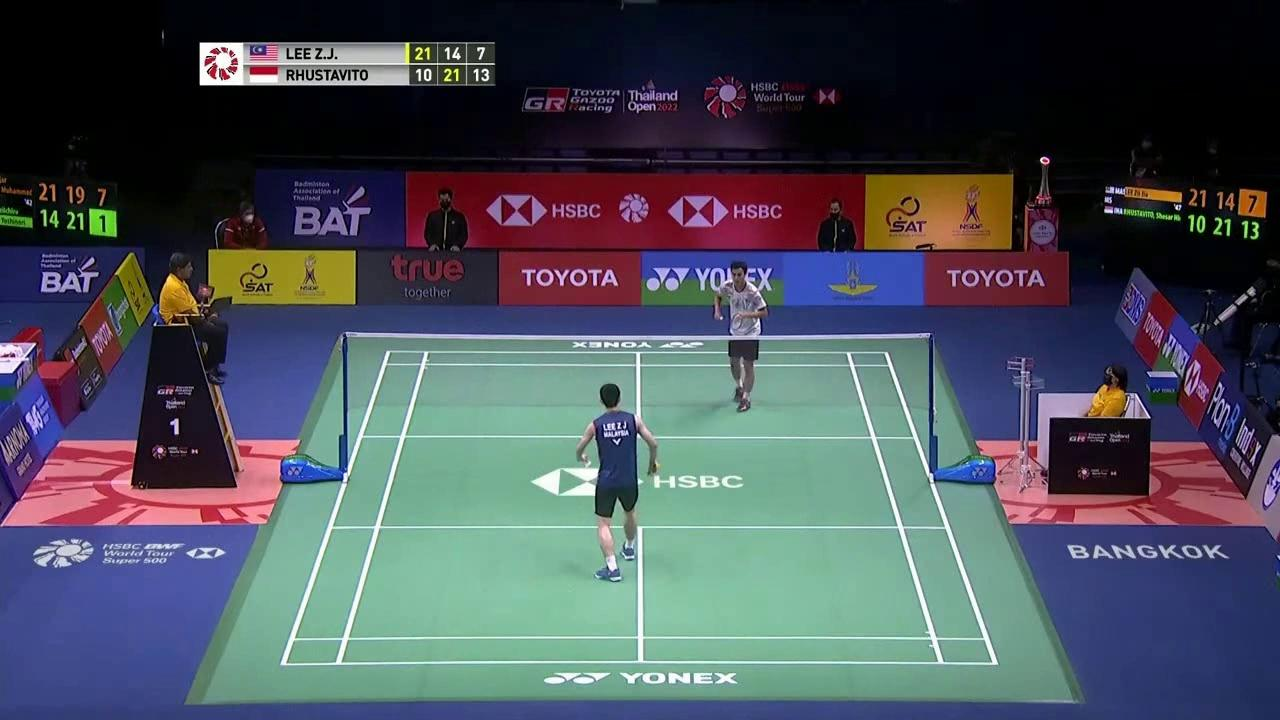racket: (638, 462, 659, 499), (717, 313, 744, 331)
shuttle: (582, 457, 592, 469)
